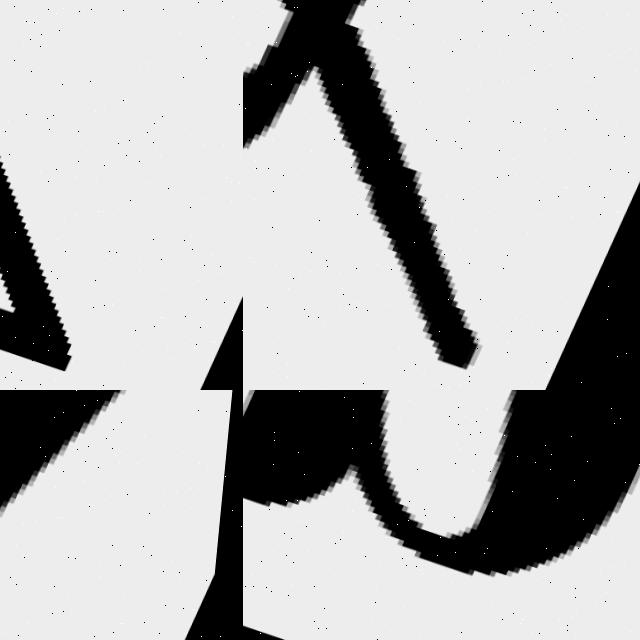A: (243, 390, 640, 640)
X: (243, 0, 640, 389)
Y: (0, 390, 228, 640)
